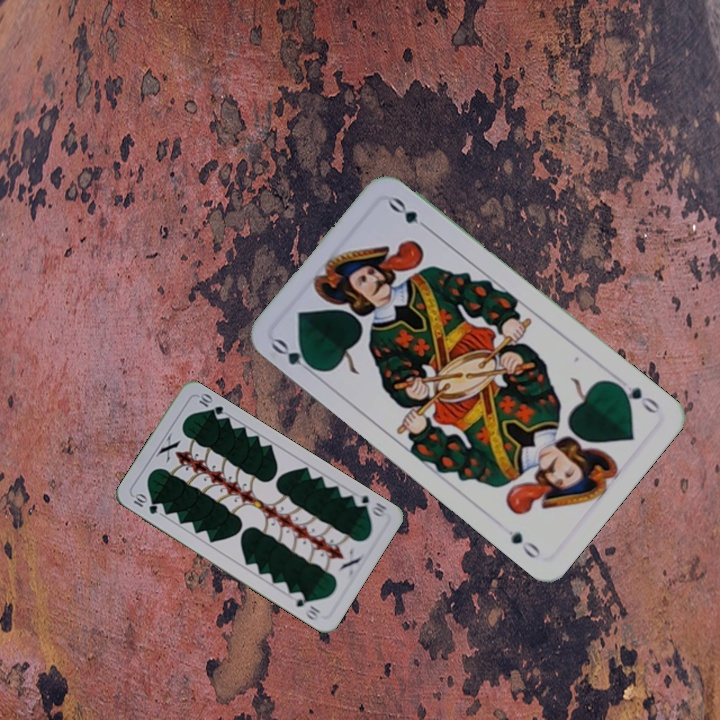G10: (349, 489, 389, 521), (129, 490, 160, 517)
GO: (267, 334, 322, 379), (610, 378, 663, 417)
